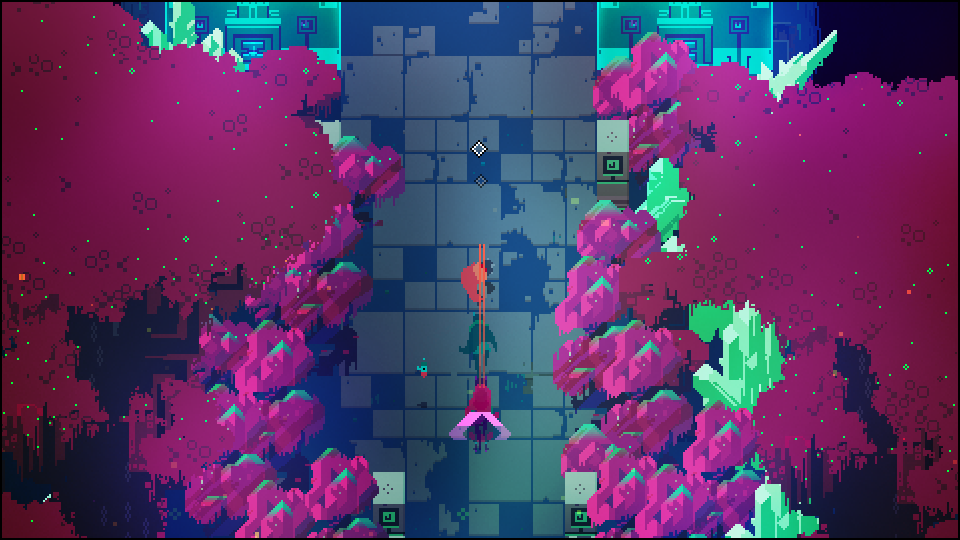player: (458, 251, 493, 310)
